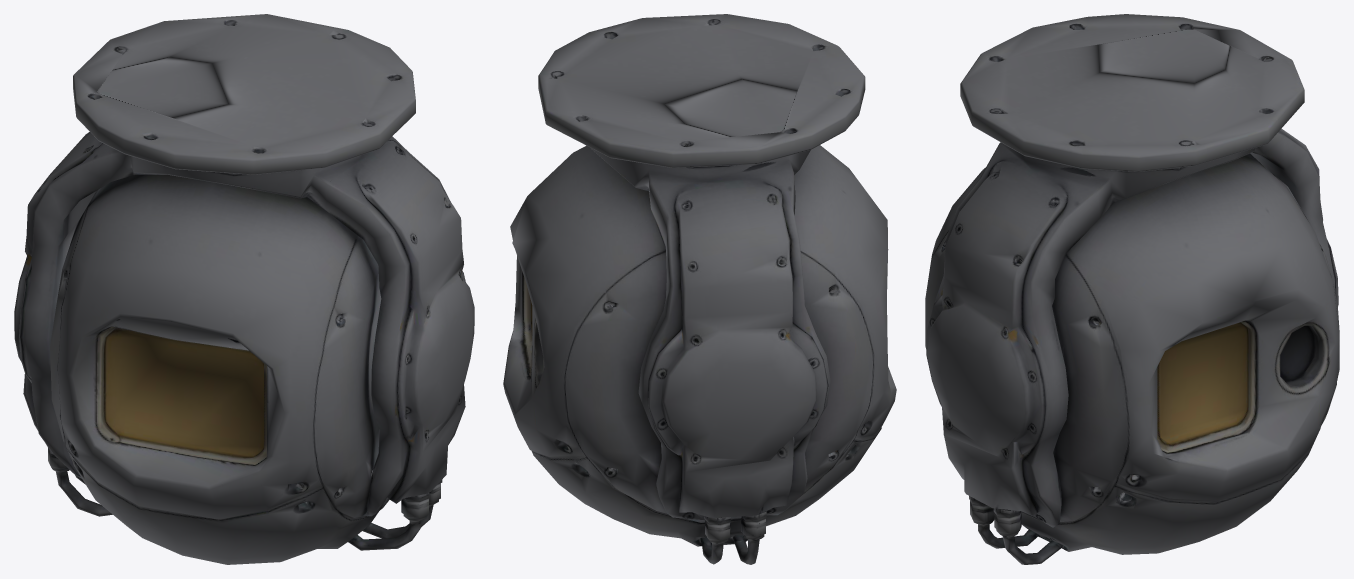
File: sensorball_remesh.glb
3 renders of one model, left to right at view 1: azimuth 30°, elevation 25°; view 2: azimuth 150°, elevation 25°; view 3: azimuth 270°, elevation 25°, orthographic. The views are drawn at different scales.
Parts seen in each view (by area): view 1: tripo_node_9e6a43c5-295f-402f-b4a4-e016f; view 2: tripo_node_9e6a43c5-295f-402f-b4a4-e016f; view 3: tripo_node_9e6a43c5-295f-402f-b4a4-e016f.
Boxes of the visible parts, x1,y1,x2,y2 form: tripo_node_9e6a43c5-295f-402f-b4a4-e016f: [14, 14, 474, 564]; tripo_node_9e6a43c5-295f-402f-b4a4-e016f: [503, 14, 896, 564]; tripo_node_9e6a43c5-295f-402f-b4a4-e016f: [925, 14, 1339, 564].
Size of the model in its own units: 0.8415 by 1 by 0.8317.
Materials: 1 (1 with a texture image).
